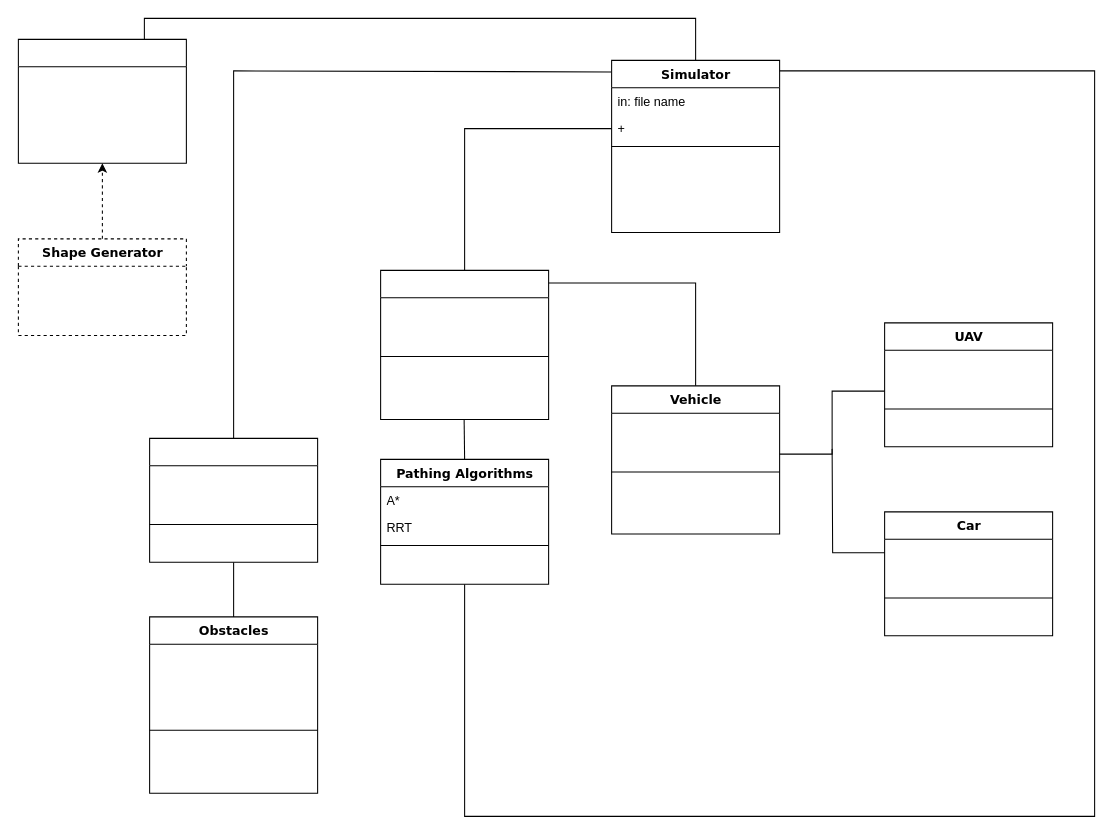
The diagram is 1114 pixels wide and 836 high, and some of its shapes have lost their labels. Here are the shapes that lost their labels. From the top down, the centre of each, then its label:
point 101,100: Visualizer
point 464,344: Agent
point 233,499: Environment
